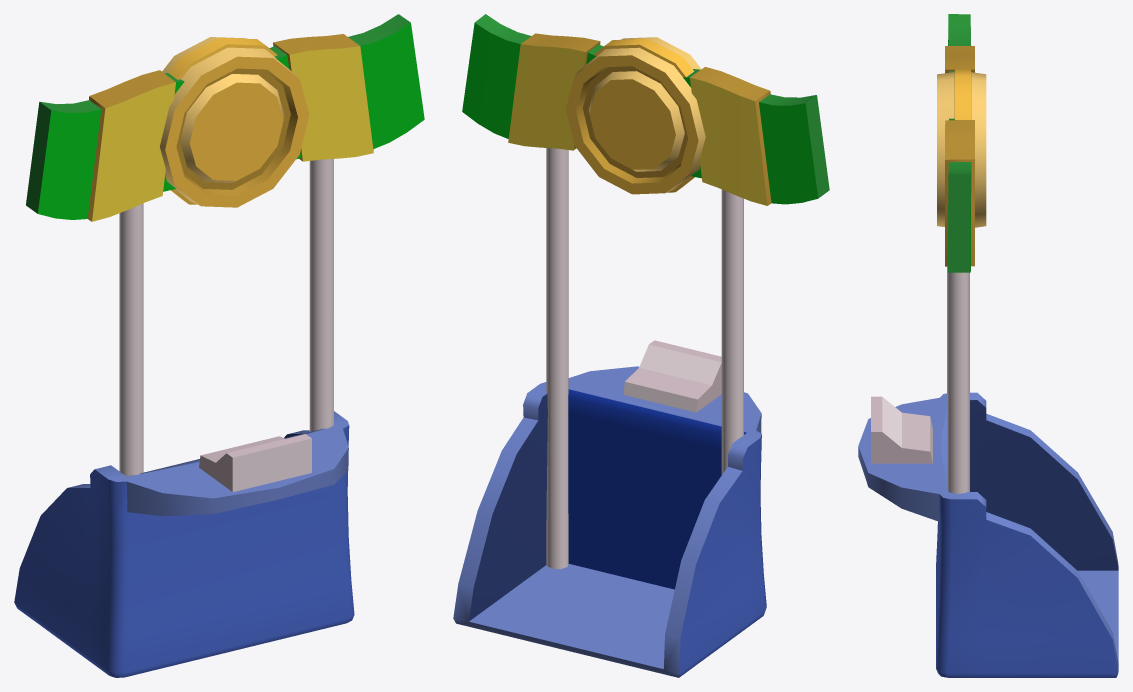
File: Final_cash.fbx
3 renders of one model, left to right at view 1: azimuth 30°, elevation 25°; view 2: azimuth 150°, elevation 25°; view 3: azimuth 270°, elevation 25°, orthographic. The views are drawn at different scales.
Parts seen in each view (by area): view 1: cash; view 2: cash; view 3: cash.
Boxes of the visible parts, <box> form: cash: <box>14,14,424,677</box>; cash: <box>453,14,829,677</box>; cash: <box>858,14,1118,677</box>.
Bounding box in the file's own units: 164 × 244 × 105.
